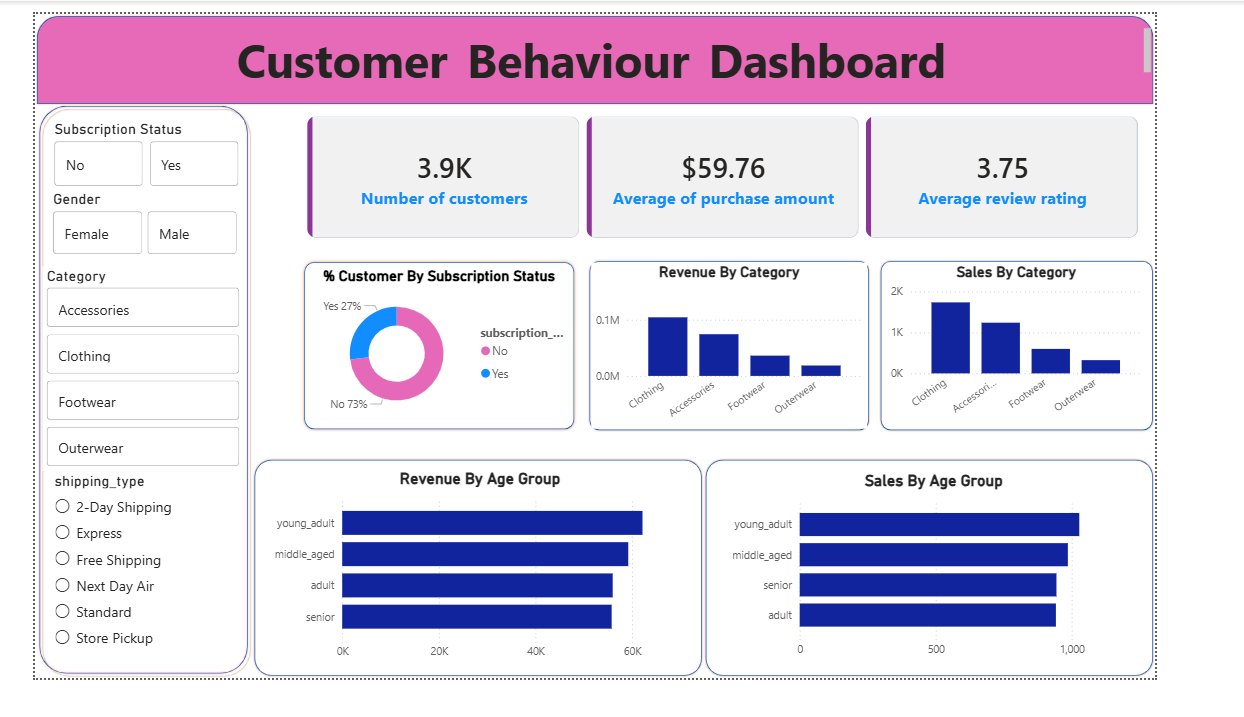

The page's visual inventory and layout, read from the dashboard file:
{"tool":"powerbi","page":{"name":"Page 1","canvas":[1280,759],"ordinal":0},"visuals":[{"type":"cardVisual","fields":{"Data":["customer_behaviour customer.number of customers","customer_behaviour customer.Average of purchase amount","customer_behaviour customer.Average review rating"]},"box":[294.7,100.3,985.6,173.6],"z":0},{"type":"shape","box":[0,0,1280.3,105.2],"z":1000},{"type":"textbox","box":[0,11,1280.3,69.7],"z":2000},{"type":"shape","box":[304.5,280,315.5,198.1],"z":3000},{"type":"shape","box":[0,100,248.2,658.9],"z":4000},{"type":"shape","box":[631,280,324.1,198.1],"z":5000},{"type":"shape","box":[964.8,280,315.5,198.1],"z":6000},{"type":"shape","box":[248.6,507.1,515.7,251.4],"z":7000},{"type":"shape","box":[764.3,507.1,515.7,251.4],"z":8000},{"type":"advancedSlicerVisual","fields":{"Values":["customer_behaviour customer.subscription_status"]},"box":[17.9,121.4,221.4,80.4],"z":9000},{"type":"donutChart","title":"% Customer By Subscription Status","fields":{"Category":["customer_behaviour customer.subscription_status"],"Y":["CountNonNull(customer_behaviour customer.customer_id)"]},"box":[312.5,289.3,298.2,180.4],"z":10000},{"type":"clusteredColumnChart","title":"Revenue By Category","fields":{"Y":["Sum(customer_behaviour customer.purchase_amount)"],"Category":["customer_behaviour customer.category"]},"box":[635.9,283.7,315.5,189.5],"z":11000},{"type":"clusteredColumnChart","title":"Sales By Category","fields":{"Y":["CountNonNull(customer_behaviour customer.customer_id)"],"Category":["customer_behaviour customer.category"]},"box":[973.4,284.9,297.1,184.6],"z":12000},{"type":"advancedSlicerVisual","fields":{"Values":["customer_behaviour customer.gender"]},"box":[16.2,201.2,221.2,78.8],"z":13000},{"type":"advancedSlicerVisual","fields":{"Values":["customer_behaviour customer.category"]},"box":[8.9,289.3,230.4,233.9],"z":14000},{"type":"listSlicer","fields":{"Values":["customer_behaviour customer.shipping_type"]},"box":[17.9,523.2,219.6,210.7],"z":15000},{"type":"clusteredBarChart","title":"Revenue By Age Group","fields":{"Y":["Sum(customer_behaviour customer.purchase_amount)"],"Category":["customer_behaviour customer.age_group"]},"box":[264.3,520,488.6,227.1],"z":16000},{"type":"clusteredBarChart","title":"Sales By  Age Group","fields":{"Y":["CountNonNull(customer_behaviour customer.customer_id)"],"Category":["customer_behaviour customer.age_group"]},"box":[787.1,522.9,480,221.4],"z":17000}]}

Visuals, with their boxes in screenshot pixels (x1, y1, x2, y2), scaled from the page's 1280x759 canvas onto the 1244x717 screenshot:
cardVisual - customer_behaviour customer.number of customers x customer_behaviour customer.Average of purchase amount: l=286, t=95, r=1243, b=259
shape: l=0, t=0, r=1243, b=99
textbox: l=0, t=10, r=1243, b=76
shape: l=296, t=265, r=603, b=452
shape: l=0, t=94, r=241, b=716
shape: l=613, t=265, r=928, b=452
shape: l=938, t=265, r=1243, b=452
shape: l=242, t=479, r=743, b=716
shape: l=743, t=479, r=1243, b=716
advancedSlicerVisual - customer_behaviour customer.subscription_status: l=17, t=115, r=233, b=191
"% Customer By Subscription Status" donutChart: l=304, t=273, r=594, b=444
"Revenue By Category" clusteredColumnChart: l=618, t=268, r=925, b=447
"Sales By Category" clusteredColumnChart: l=946, t=269, r=1235, b=444
advancedSlicerVisual - customer_behaviour customer.gender: l=16, t=190, r=231, b=265
advancedSlicerVisual - customer_behaviour customer.category: l=9, t=273, r=233, b=494
listSlicer - customer_behaviour customer.shipping_type: l=17, t=494, r=231, b=693
"Revenue By Age Group" clusteredBarChart: l=257, t=491, r=732, b=706
"Sales By  Age Group" clusteredBarChart: l=765, t=494, r=1231, b=703
